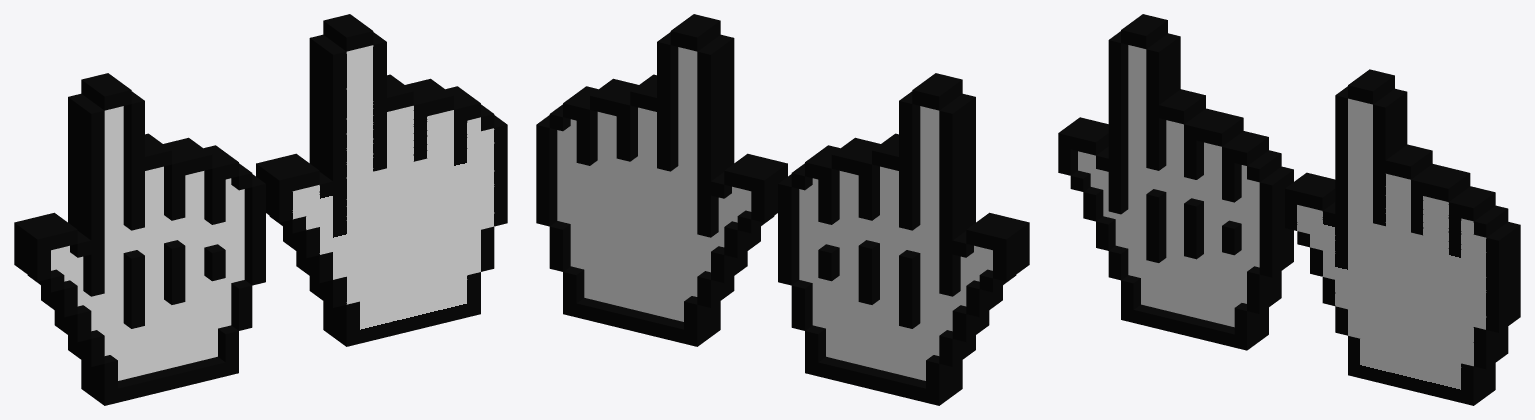
Rendered from Click.glb.
The picture shows the model from 3 angles, left to right: view 1: azimuth 30°, elevation 25°; view 2: azimuth 150°, elevation 25°; view 3: azimuth 330°, elevation 25°; orthographic projection. The views are drawn at different scales.
Visible parts, largest first — view 1: model-material (×2); view 2: model-material (×2); view 3: model-material (×2).
Boxes of the visible parts, x1,y1,x2,y2 form: model-material (×2): (14, 14, 507, 405); model-material (×2): (536, 14, 1029, 405); model-material (×2): (1058, 14, 1520, 405).
Size of the model in its own units: 35 by 22 by 3.
Materials: 1 (1 with a texture image).
